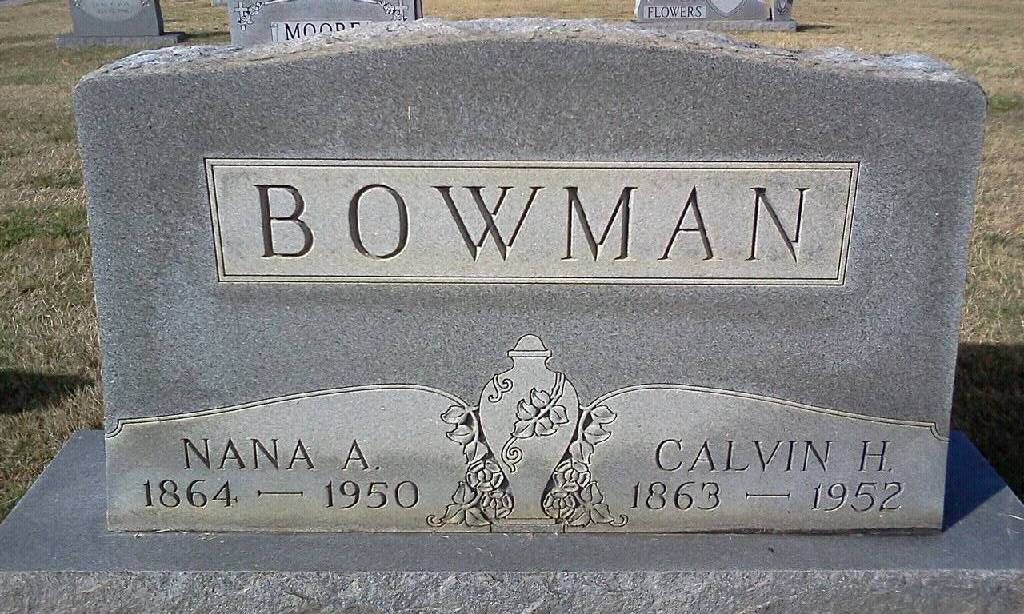upright: (7, 12, 1003, 614)
